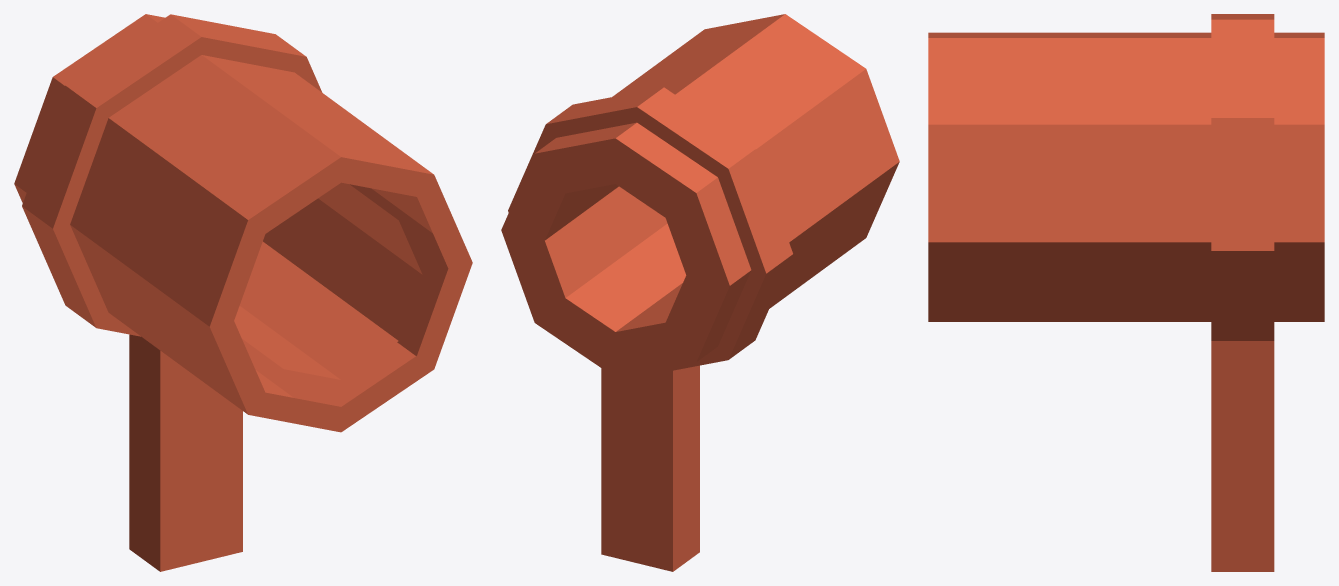
File: pipestandstraightlinerend.glb
3 views of the same model, side by side, from view 1: azimuth 30°, elevation 25°; view 2: azimuth 150°, elevation 25°; view 3: azimuth 270°, elevation 25° (orthographic). The views are drawn at different scales.
Visible parts, largest first — view 1: pipeStandStraightLinerEnd; view 2: pipeStandStraightLinerEnd; view 3: pipeStandStraightLinerEnd.
Boxes of the visible parts, left/top/right/bottom form: pipeStandStraightLinerEnd: left=14, top=14, right=472, bottom=571; pipeStandStraightLinerEnd: left=501, top=14, right=899, bottom=571; pipeStandStraightLinerEnd: left=928, top=14, right=1324, bottom=571.
Bounding box in the file's own units: 5.53 × 9.33 × 6.3.
